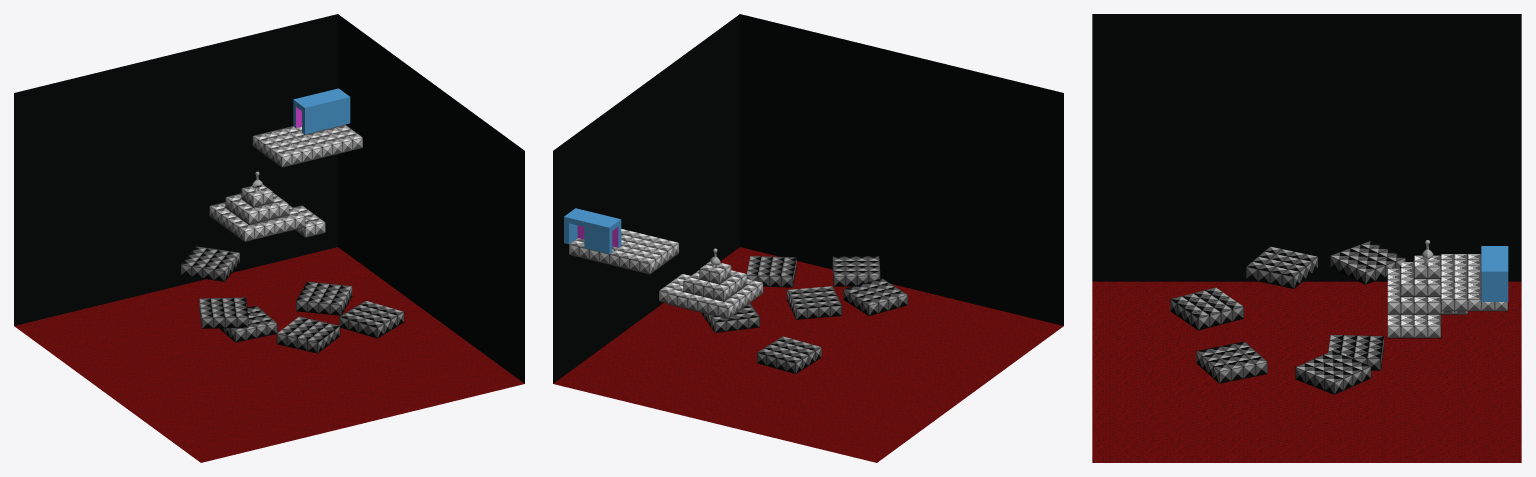
The model's file is level2_visual.gltf.
The picture shows the model from 3 angles, left to right: view 1: azimuth 30°, elevation 25°; view 2: azimuth 150°, elevation 25°; view 3: azimuth 270°, elevation 25°; orthographic projection. The views are drawn at different scales.
Parts seen in each view (by area): view 1: Level2ba.b3d; view 2: Level2ba.b3d; view 3: Level2ba.b3d.
Part boxes in pixels (x1,y1,x2,y2): Level2ba.b3d: [14, 14, 524, 462]; Level2ba.b3d: [553, 14, 1063, 462]; Level2ba.b3d: [1092, 14, 1521, 462].
Bounding box in the file's own units: 32 × 22 × 32.
Materials: 8 (7 with a texture image).
